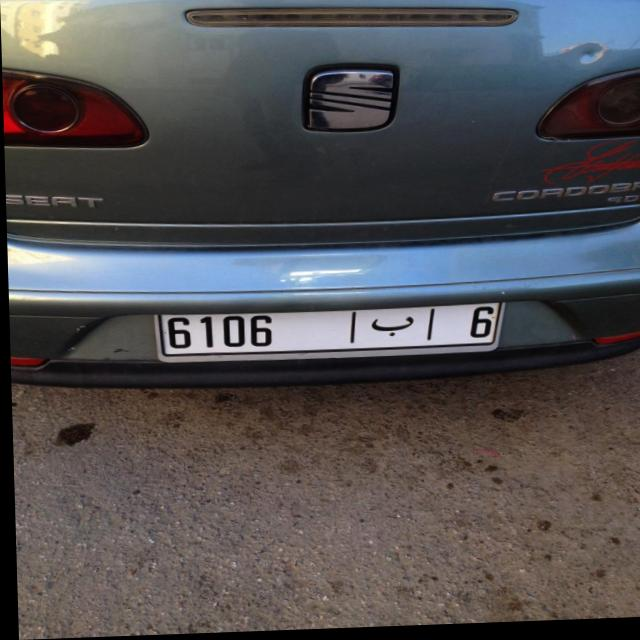License-Plate: (154, 307, 501, 363)
